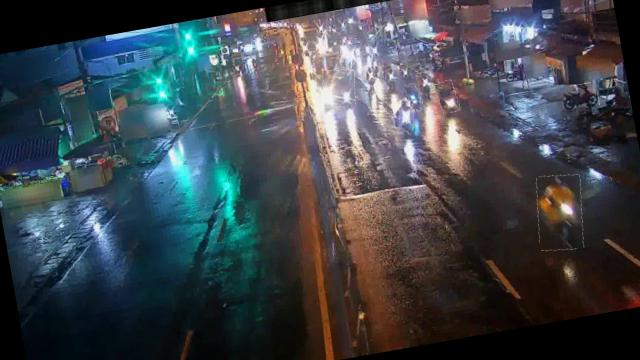Bike: (531, 172, 590, 255), (560, 82, 600, 112), (436, 79, 460, 114), (396, 98, 416, 132), (406, 81, 424, 112), (416, 71, 434, 100)
Truck: (320, 66, 358, 109)
